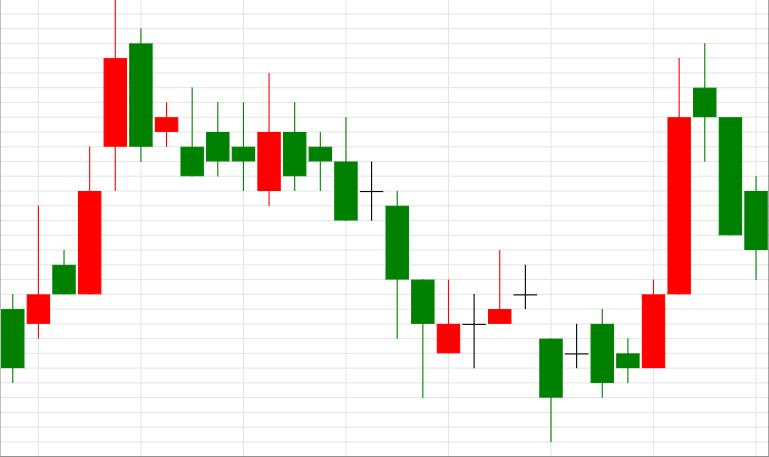bullish_engulfing_rise: (129, 27, 281, 206)
evening_star_fall: (540, 43, 741, 442)
hammer_rise: (283, 102, 435, 398)
inverse_hammer_rise: (283, 101, 460, 398)
